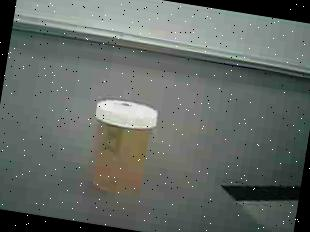Bottle B: (77, 89, 165, 206)
